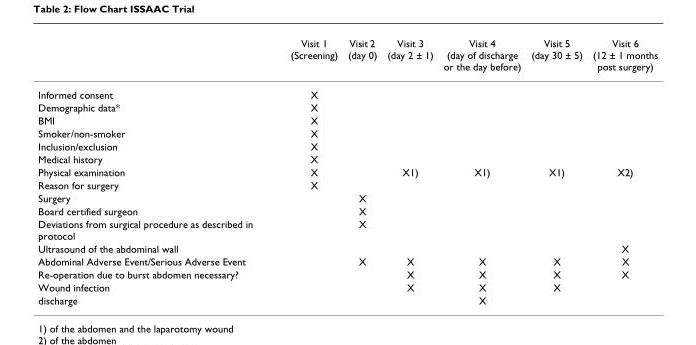table: (37, 36, 657, 305)
table column: (37, 36, 270, 305), (437, 36, 525, 305), (270, 36, 342, 305), (586, 36, 657, 305), (525, 36, 586, 305), (381, 36, 437, 305), (342, 36, 381, 305)
table column header: (37, 36, 657, 80)
table row: (37, 36, 657, 80), (37, 217, 657, 241), (37, 80, 657, 100), (37, 100, 657, 113), (37, 113, 657, 126), (37, 126, 657, 139), (37, 139, 657, 152), (37, 152, 657, 165), (37, 165, 657, 178), (37, 178, 657, 191), (37, 191, 657, 204), (37, 204, 657, 217), (37, 241, 657, 254), (37, 254, 657, 267), (37, 267, 657, 280), (37, 280, 657, 293), (37, 293, 657, 305)
